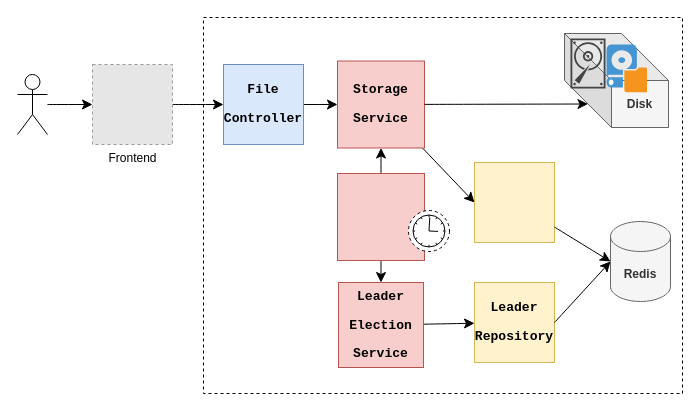
This 700x411 diagram has some shape labels left out. Grey dashed boxes stand in for pictures. Here are the shapes that lost their labels. From the top down, the centre of each, then its label:
(x=32, y=104): User
(x=380, y=216): File Cleanup Service
(x=514, y=202): File Metadata Repository
